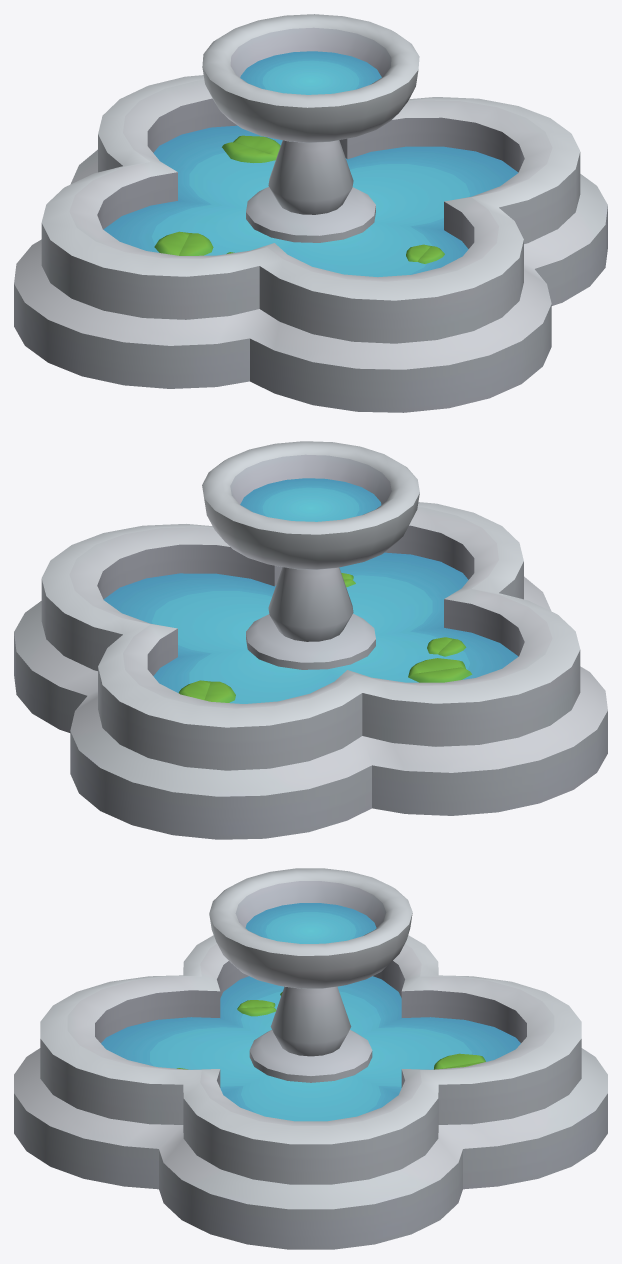
The model's file is fountain.glb.
3 renders of one model, top to bottom at view 1: azimuth 30°, elevation 25°; view 2: azimuth 150°, elevation 25°; view 3: azimuth 270°, elevation 25°, orthographic. The views are drawn at different scales.
Parts seen in each view (by area): view 1: fountain, fountain_water, fountain_leaves; view 2: fountain, fountain_water, fountain_leaves; view 3: fountain, fountain_water, fountain_leaves.
Part boxes in pixels (box(x1,y1,x2,y2)): fountain: box(14, 14, 607, 412); fountain_water: box(103, 51, 518, 277); fountain_leaves: box(154, 135, 444, 263); fountain: box(14, 441, 607, 839); fountain_water: box(103, 478, 518, 703); fountain_leaves: box(179, 573, 472, 702); fountain: box(14, 868, 607, 1249); fountain_water: box(101, 903, 520, 1121); fountain_leaves: box(177, 992, 485, 1069).
Size of the model in its own units: 4 by 1.6 by 4.
Materials: 1 (1 with a texture image).
